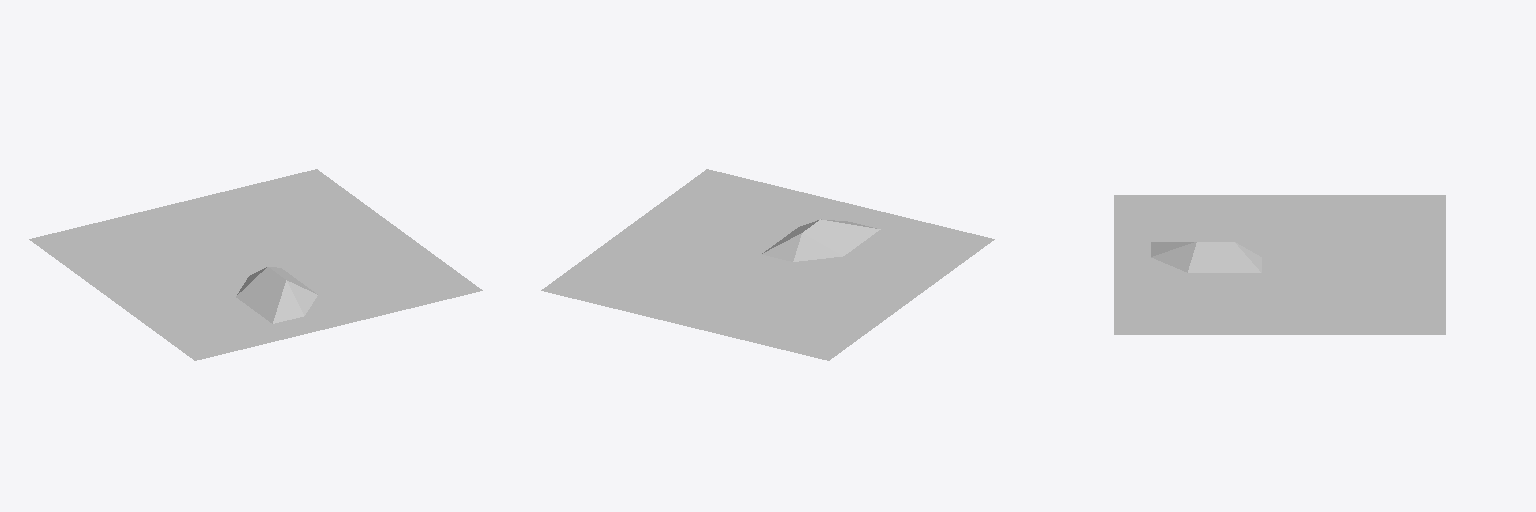
The model's file is floor.obj.
The picture shows the model from 3 angles: view 1: azimuth 30°, elevation 25°; view 2: azimuth 150°, elevation 25°; view 3: azimuth 270°, elevation 25°; orthographic projection.
Parts seen in each view (by area): view 1: Grid; view 2: Grid; view 3: Grid.
Boxes of the visible parts, <box> form: Grid: <box>29,169,482,360</box>; Grid: <box>541,169,994,360</box>; Grid: <box>1114,195,1445,334</box>.
Bounding box in the file's own units: 383 × 22.9 × 383.